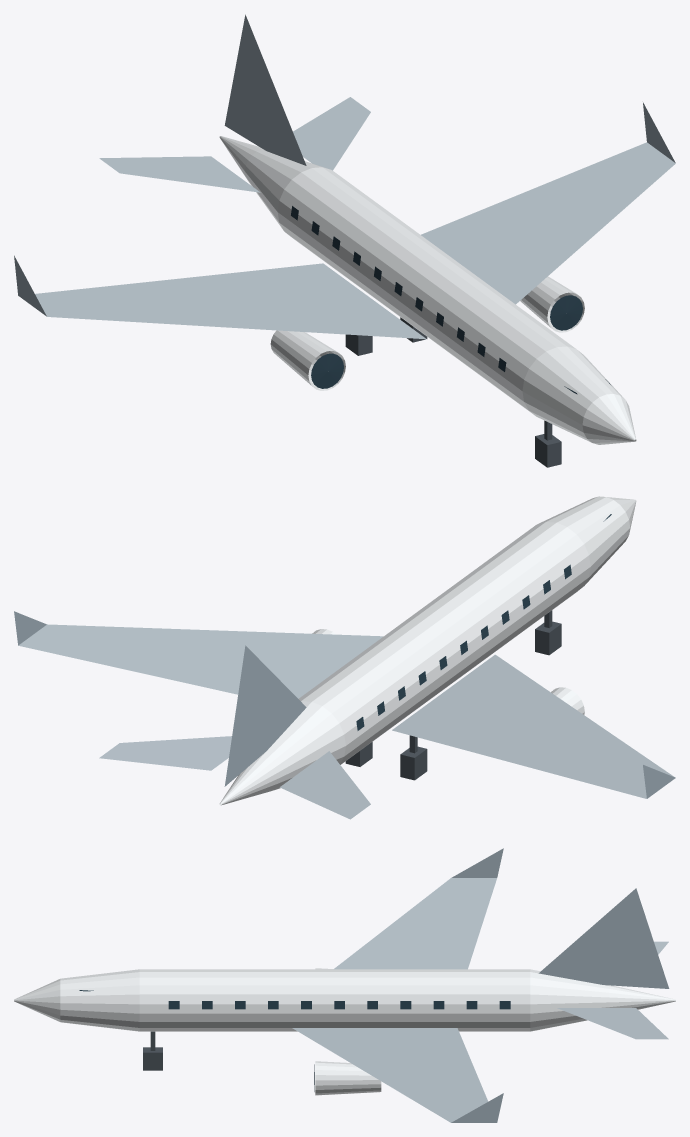
The model's file is b737-neutral.gltf.
3 views of the same model, one above another, from view 1: azimuth 30°, elevation 25°; view 2: azimuth 150°, elevation 25°; view 3: azimuth 270°, elevation 25° (orthographic). The views are drawn at different scales.
Parts seen in each view (by area): view 1: object 1, Gear; view 2: object 1, Gear; view 3: object 1, Gear.
Part boxes in pixels (left/top/right/bottom): object 1: left=14, top=14, right=675, bottom=444; Gear: left=345, top=317, right=561, bottom=467; object 1: left=14, top=496, right=675, bottom=819; Gear: left=345, top=610, right=561, bottom=780; object 1: left=14, top=848, right=675, bottom=1122; Gear: left=143, top=1031, right=162, bottom=1070.
Size of the model in its own units: 35 by 12 by 40.
